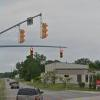Traffic light: (14, 17, 56, 44)
